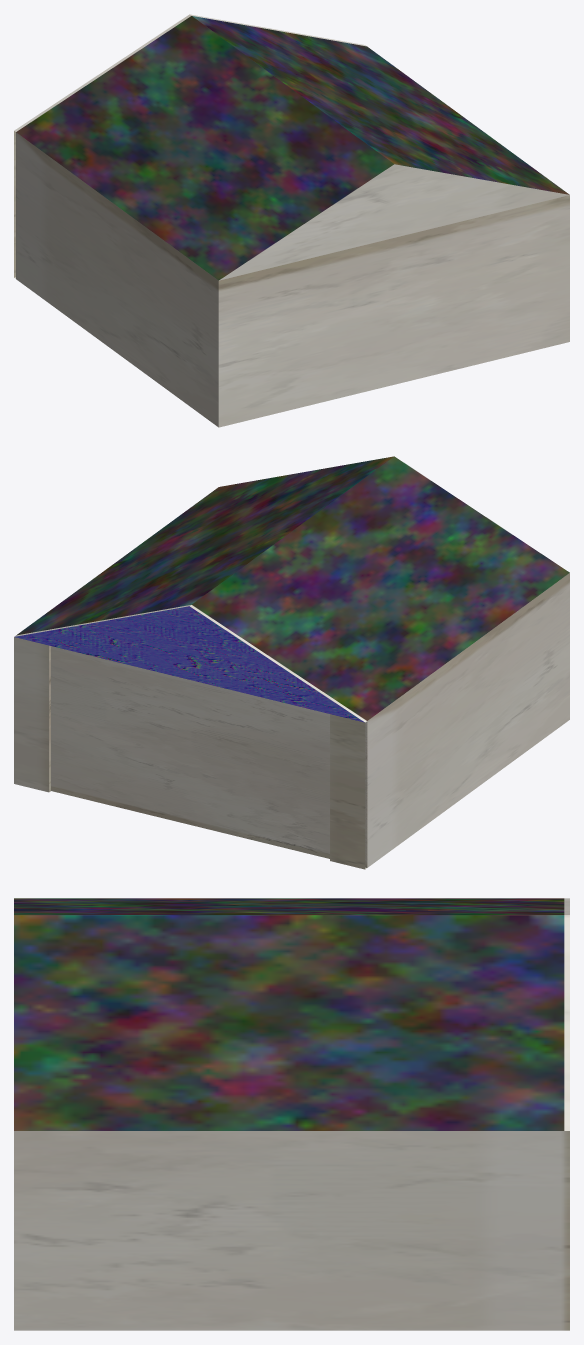
The model's file is garage.obj.
The picture shows the model from 3 angles, top to bottom: view 1: azimuth 30°, elevation 25°; view 2: azimuth 150°, elevation 25°; view 3: azimuth 270°, elevation 25°; orthographic projection. The views are drawn at different scales.
Visible parts, largest first — view 1: Plane.001, Plane.002; view 2: Plane.001, Plane.002, Plane; view 3: Plane.002, Plane.001.
Part boxes in pixels (x1,y1,x2,y2): Plane.001: (14, 14, 569, 427); Plane.002: (16, 16, 569, 280); Plane.001: (14, 573, 569, 869); Plane.002: (16, 456, 569, 720); Plane: (15, 606, 364, 722); Plane.002: (14, 898, 564, 1130); Plane.001: (14, 898, 569, 1330).
Bounding box in the file's own units: 10 × 6 × 10.1.
Materials: 3 (3 with a texture image).
